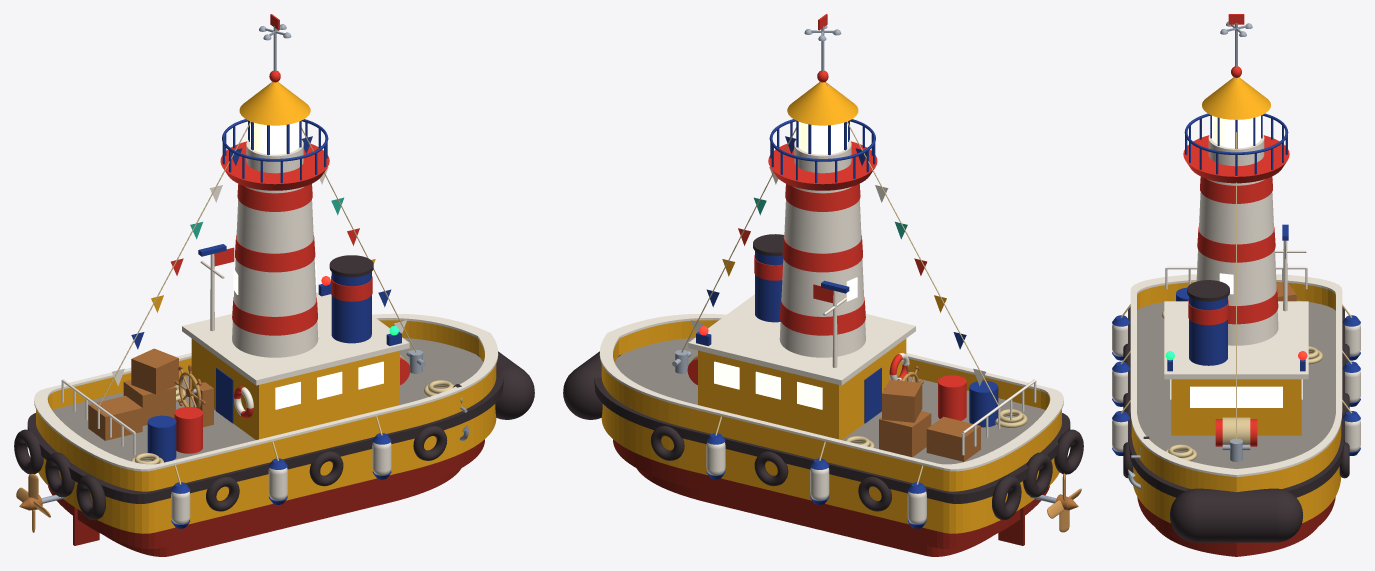
The model's file is lighthouse-tug.glb.
The picture shows the model from 3 angles, left to right: view 1: azimuth 30°, elevation 25°; view 2: azimuth 150°, elevation 25°; view 3: azimuth 270°, elevation 25°; orthographic projection. The views are drawn at different scales.
Parts seen in each view (by area): view 1: bulwark, hull, tower_body, cabin, hull_bottom, deck, cabin_roof, bulwark_cap, fender_rub, keel, gallery, lantern_roof (+22 smaller); view 2: bulwark, hull, cabin, tower_body, cabin_roof, hull_bottom, deck, bulwark_cap, fender_rub, keel, gallery, lantern_roof (+20 smaller); view 3: deck, tower_body, cabin_roof, bow_fender, bulwark, bulwark_cap, cabin, fender_rub, gallery, hull, cabin_window_front, lantern_roof (+20 smaller).
Part boxes in pixels (x1,y1,x2,y2): bulwark: (36, 320, 496, 490); hull: (36, 377, 496, 533); tower_body: (232, 187, 318, 357); cabin: (191, 338, 399, 439); hull_bottom: (48, 439, 484, 549); deck: (52, 338, 483, 463); cabin_roof: (182, 292, 409, 385); bulwark_cap: (34, 313, 498, 471); fender_rub: (27, 377, 503, 503); keel: (105, 468, 461, 556); gallery: (220, 141, 329, 190); lantern_roof: (239, 82, 310, 125); bulwark: (601, 320, 1061, 490); hull: (601, 377, 1061, 533); cabin: (698, 338, 906, 439); tower_body: (779, 187, 865, 357); cabin_roof: (688, 294, 915, 385); hull_bottom: (613, 439, 1049, 549); deck: (614, 338, 1045, 464); bulwark_cap: (599, 313, 1063, 471); fender_rub: (594, 377, 1070, 503); keel: (636, 468, 992, 556); gallery: (768, 141, 877, 190); lantern_roof: (787, 82, 858, 125); deck: (1137, 300, 1335, 468); tower_body: (1196, 179, 1278, 345); cabin_roof: (1164, 301, 1308, 379); bow_fender: (1170, 488, 1302, 542); bulwark: (1131, 282, 1341, 492); bulwark_cap: (1130, 274, 1342, 477); cabin: (1171, 379, 1301, 435); fender_rub: (1128, 307, 1344, 497); gallery: (1183, 135, 1289, 183); hull: (1131, 436, 1341, 523); cabin_window_front: (1190, 386, 1282, 407); lantern_roof: (1202, 77, 1270, 119).
Size of the model in its own units: 11.85 by 11.03 by 5.34.
